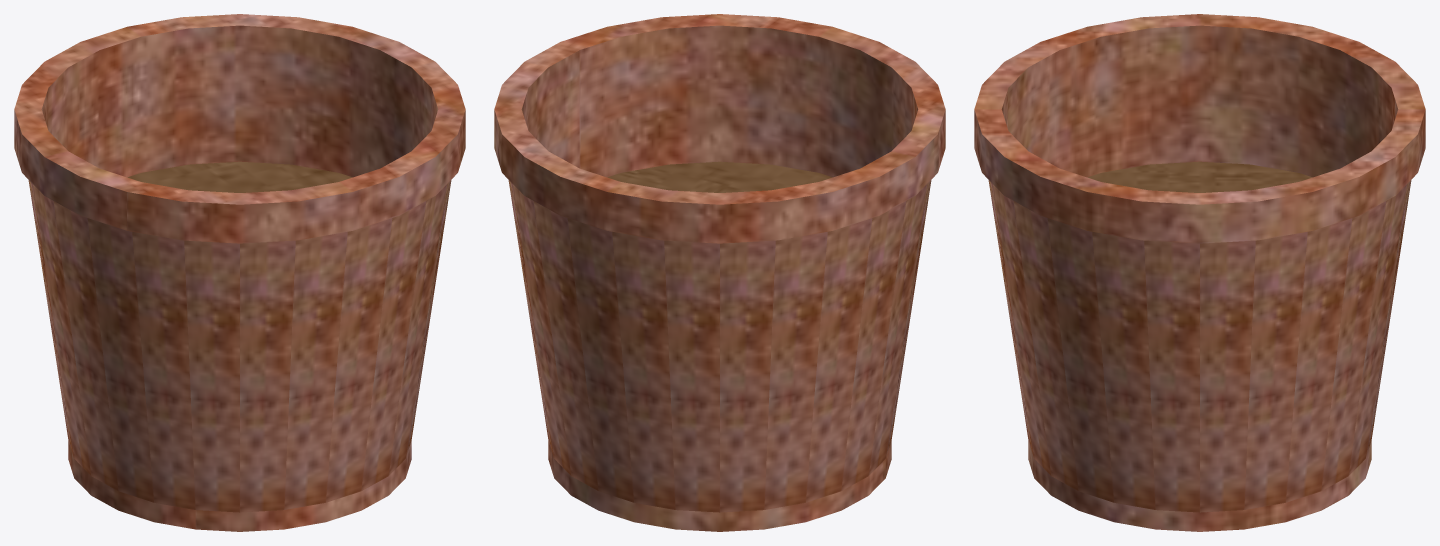
The model's file is pot.dae.
The picture shows the model from 3 angles, left to right: view 1: azimuth 30°, elevation 25°; view 2: azimuth 150°, elevation 25°; view 3: azimuth 270°, elevation 25°; orthographic projection.
Visible parts, largest first — view 1: SketchUp (×4); view 2: SketchUp (×4); view 3: SketchUp (×4).
Part boxes in pixels (x1,y1,x2,y2): SketchUp (×4): (14,14,465,531); SketchUp (×4): (494,14,945,531); SketchUp (×4): (974,14,1425,531).
Size of the model in its own units: 8.28 by 8.28 by 7.09.
Materials: 3 (2 with a texture image).
